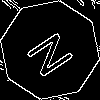N: (25, 25, 83, 80)
